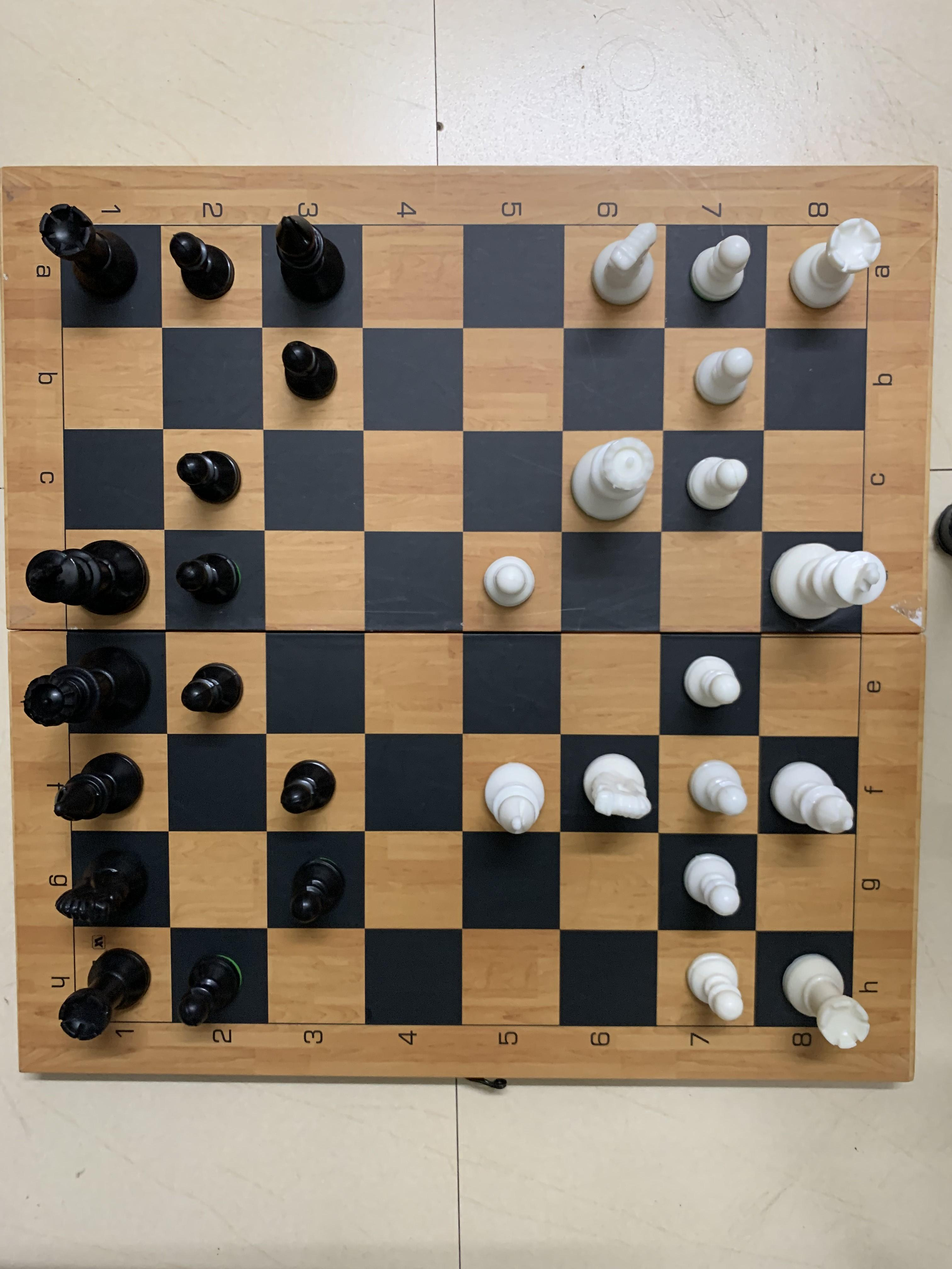black_bishop: (261, 205, 362, 308), (49, 748, 159, 832)
black_king: (20, 524, 158, 621)
black_knight: (49, 842, 167, 934)
black_pawn: (170, 935, 261, 1034), (170, 436, 258, 516), (173, 650, 259, 728), (274, 845, 360, 922), (274, 745, 354, 824), (170, 543, 255, 616), (274, 334, 349, 412), (164, 230, 242, 304)
black_queen: (20, 641, 157, 737)
black_rook: (32, 198, 159, 326), (49, 941, 167, 1046)
white_bishop: (763, 749, 861, 844), (475, 746, 557, 841)
white_king: (765, 532, 902, 642)
white_knight: (576, 217, 674, 315), (575, 745, 659, 832)
white_pawn: (669, 845, 757, 927), (671, 940, 751, 1027), (685, 336, 764, 420), (671, 746, 752, 827), (683, 227, 762, 308), (677, 443, 756, 522), (469, 543, 551, 619), (674, 647, 756, 722)
white_queen: (571, 435, 663, 530)
white_rook: (770, 940, 888, 1061), (784, 213, 895, 318)
